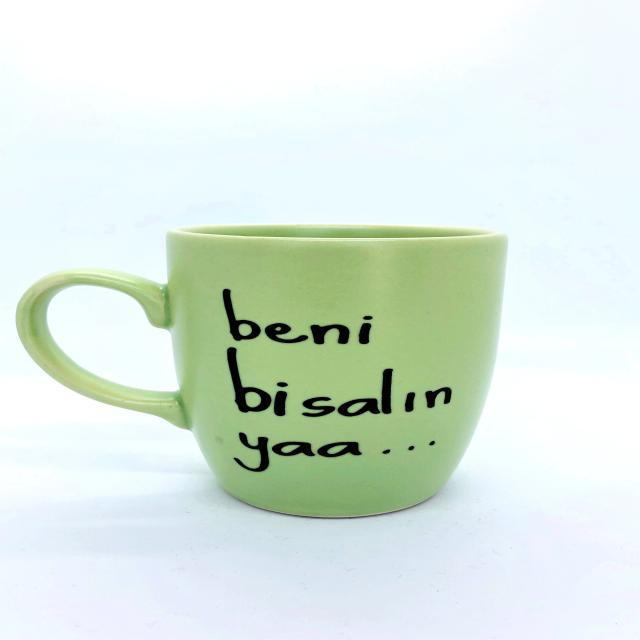Coffee Mug: (16, 223, 509, 519)
